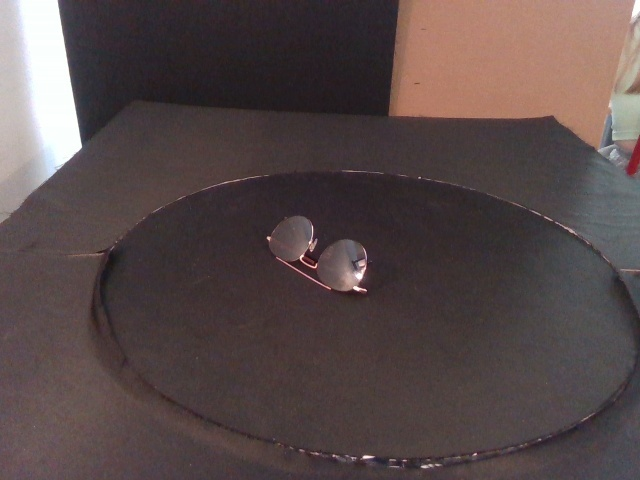glasses: (265, 214, 373, 295)
